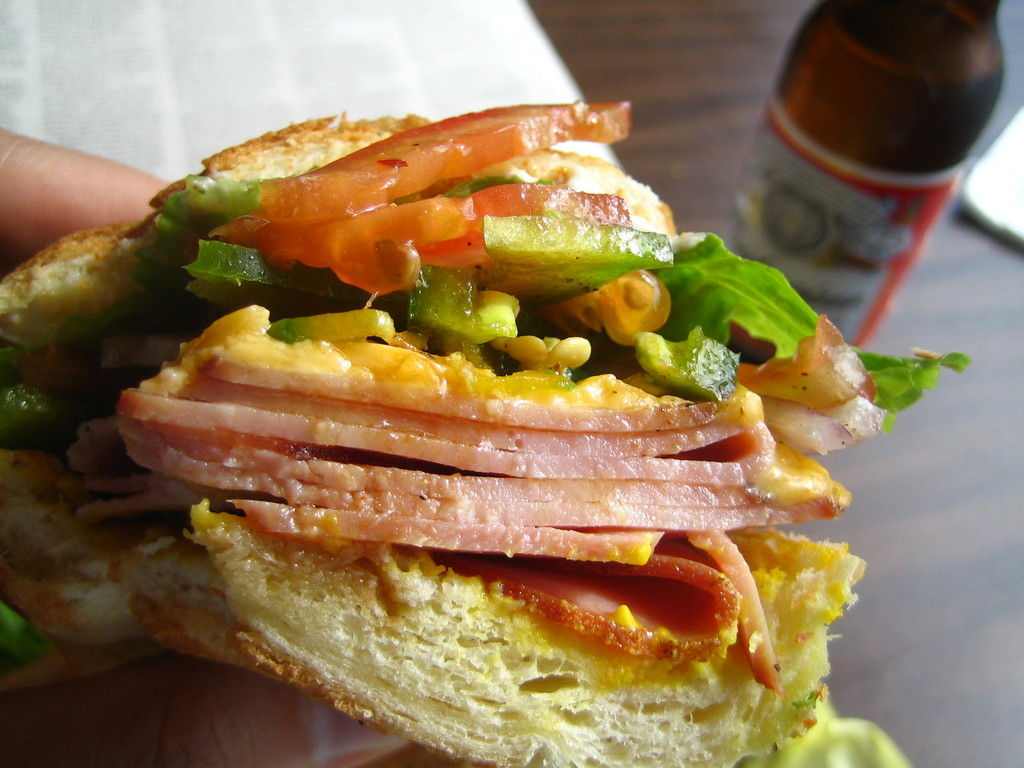Hamburger: (0, 109, 968, 767)
